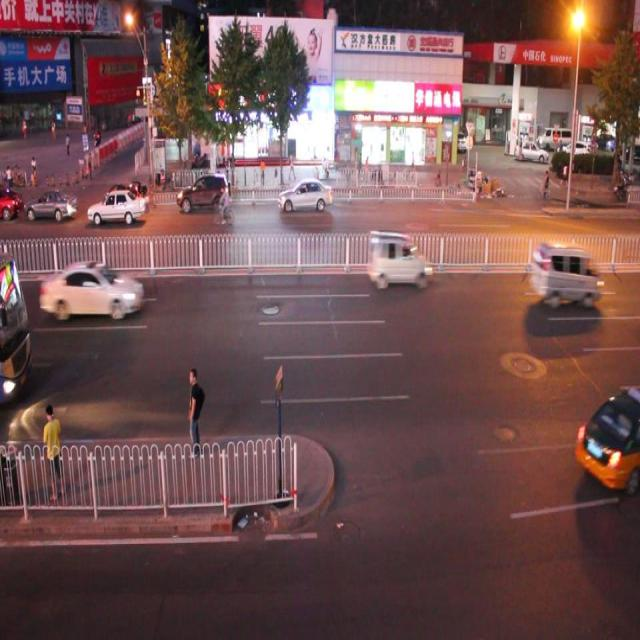car: (574, 389, 640, 488), (42, 256, 144, 320), (533, 241, 603, 305), (367, 230, 432, 287), (175, 170, 231, 216), (278, 175, 332, 217), (23, 186, 78, 226), (88, 188, 146, 223), (101, 180, 145, 223)
